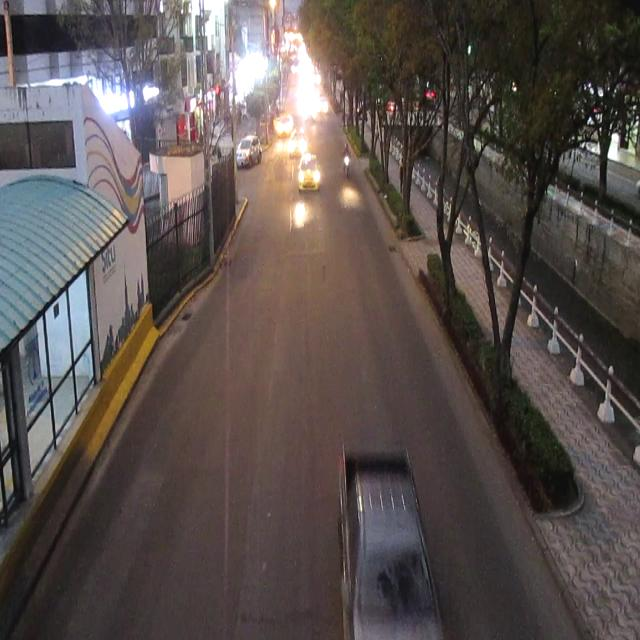CMT: (335, 438, 440, 640)
MOTORCYCLE: (344, 146, 352, 180)
SED: (296, 152, 321, 194)
